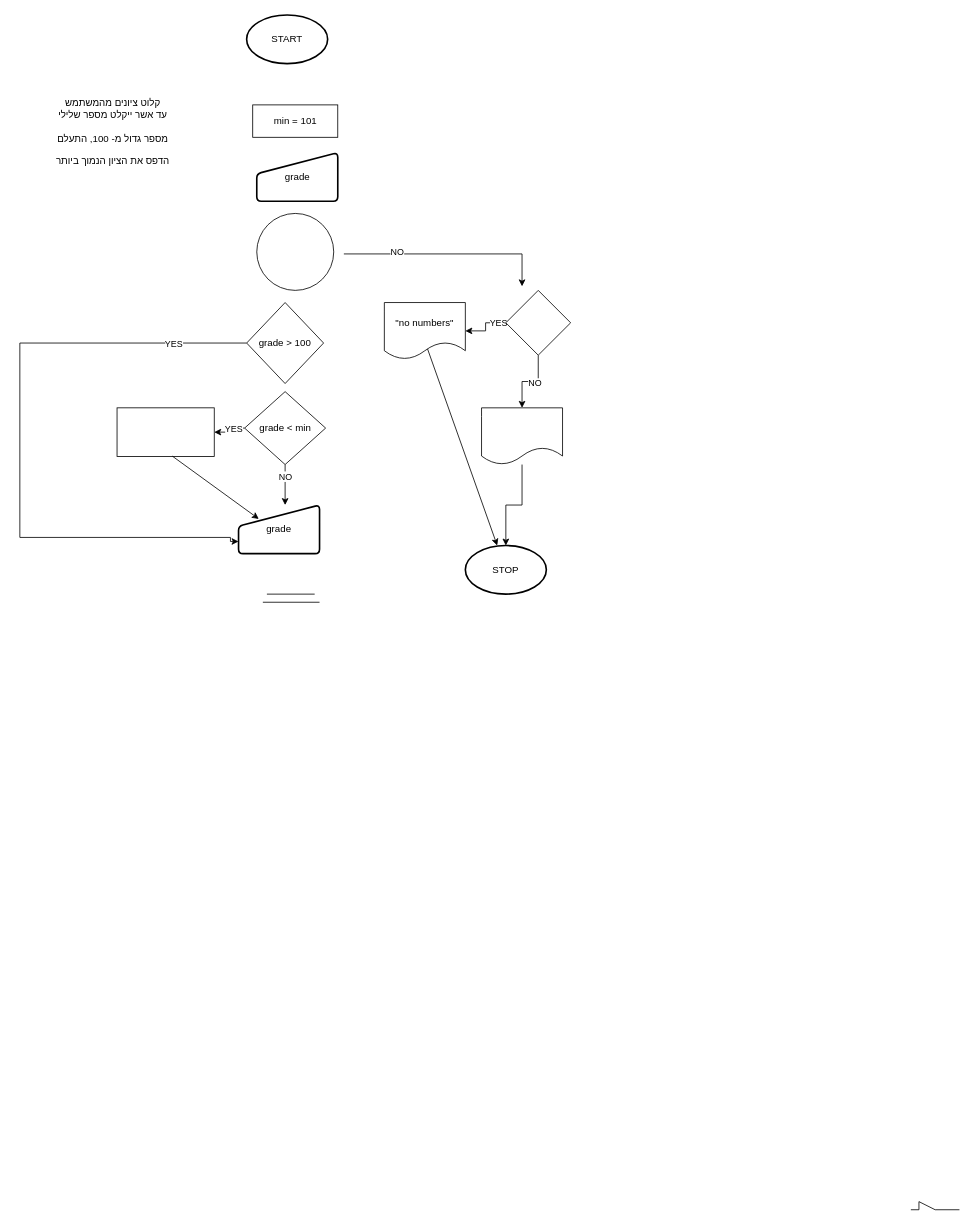
Image size: 974x1225. Some labels were removed from this diagram. Here are the shapes that lost their labels. From the top down, the centre of each, then its label:
the point at 295,251: while grade >= 0
the point at 538,322: min == 101
the point at 165,431: min = grade
the point at 522,436: min
